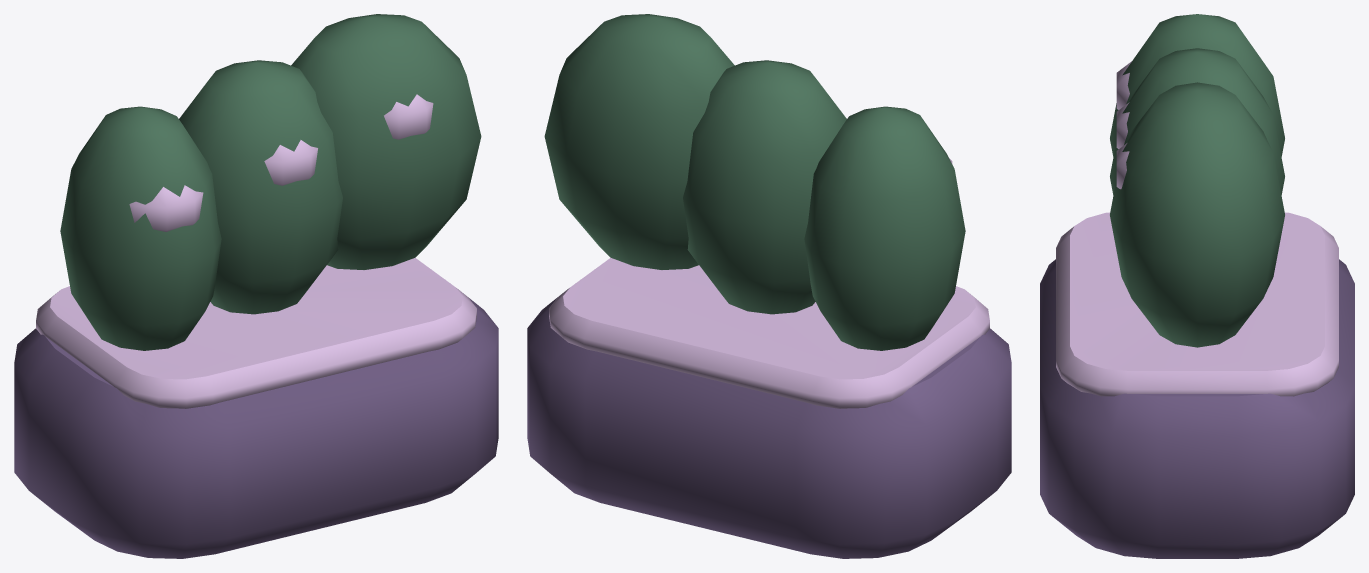
The model's file is planter_4.glb.
3 views of the same model, side by side, from view 1: azimuth 30°, elevation 25°; view 2: azimuth 150°, elevation 25°; view 3: azimuth 270°, elevation 25° (orthographic).
Visible parts, largest first — view 1: Planter; view 2: Planter; view 3: Planter.
Part boxes in pixels (bbox=[...]): Planter: bbox=[14, 14, 498, 558]; Planter: bbox=[527, 14, 1011, 558]; Planter: bbox=[1040, 14, 1354, 558].
Bounding box in the file's own units: 1.23 × 1.21 × 0.79.
